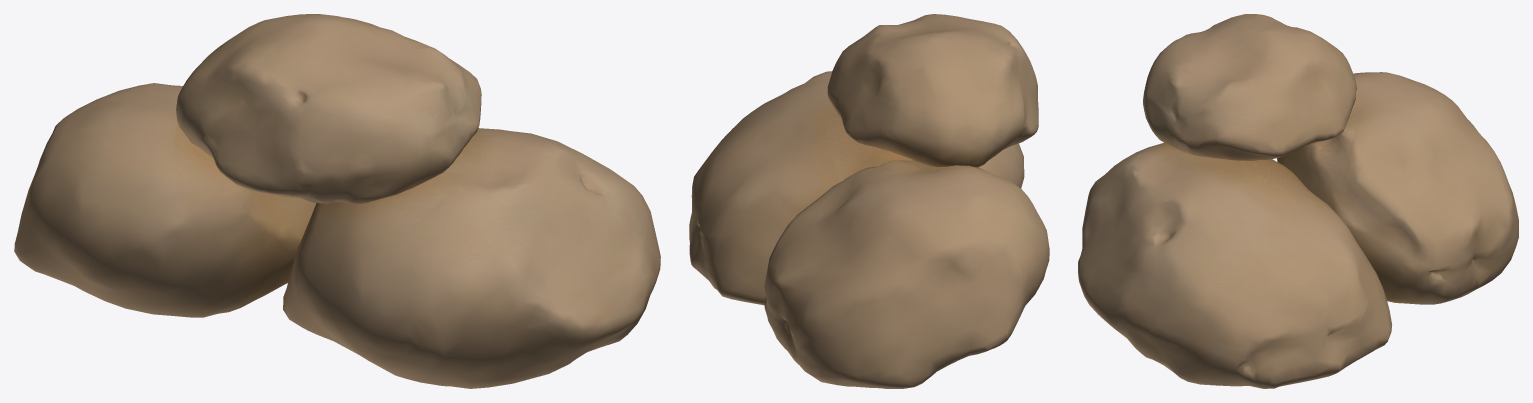
Rendered from rocks.glb.
3 views of the same model, side by side, from view 1: azimuth 30°, elevation 25°; view 2: azimuth 150°, elevation 25°; view 3: azimuth 270°, elevation 25° (orthographic). The views are drawn at different scales.
Parts seen in each view (by area): view 1: tripo_node_0eadc7ef-af5d-4edd-a6f6-92a88ee723f2; view 2: tripo_node_0eadc7ef-af5d-4edd-a6f6-92a88ee723f2; view 3: tripo_node_0eadc7ef-af5d-4edd-a6f6-92a88ee723f2.
Boxes of the visible parts, x1=… form: tripo_node_0eadc7ef-af5d-4edd-a6f6-92a88ee723f2: x1=14, y1=14, x2=660, y2=388; tripo_node_0eadc7ef-af5d-4edd-a6f6-92a88ee723f2: x1=689, y1=14, x2=1049, y2=388; tripo_node_0eadc7ef-af5d-4edd-a6f6-92a88ee723f2: x1=1078, y1=14, x2=1518, y2=388.
Bounding box in the file's own units: 0.7673 × 0.5 × 0.7523.
1 material, 1 textured.
